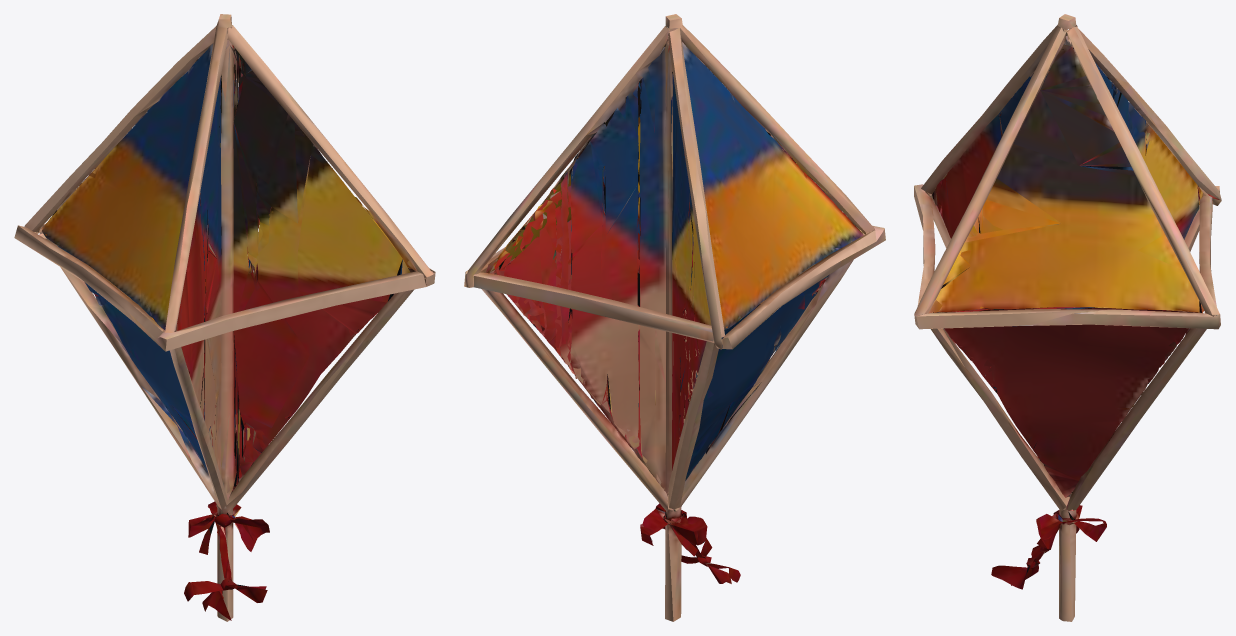
File: cometa.glb
3 renders of one model, left to right at view 1: azimuth 30°, elevation 25°; view 2: azimuth 150°, elevation 25°; view 3: azimuth 270°, elevation 25°, orthographic.
Parts seen in each view (by area): view 1: objeto; view 2: objeto; view 3: objeto.
Part boxes in pixels (x1=…): objeto: x1=14, y1=14, x2=435, y2=621; objeto: x1=464, y1=14, x2=885, y2=621; objeto: x1=914, y1=14, x2=1221, y2=621.
Bounding box in the file's own units: 0.851 × 1.8 × 0.8317.
1 material, 1 textured.
